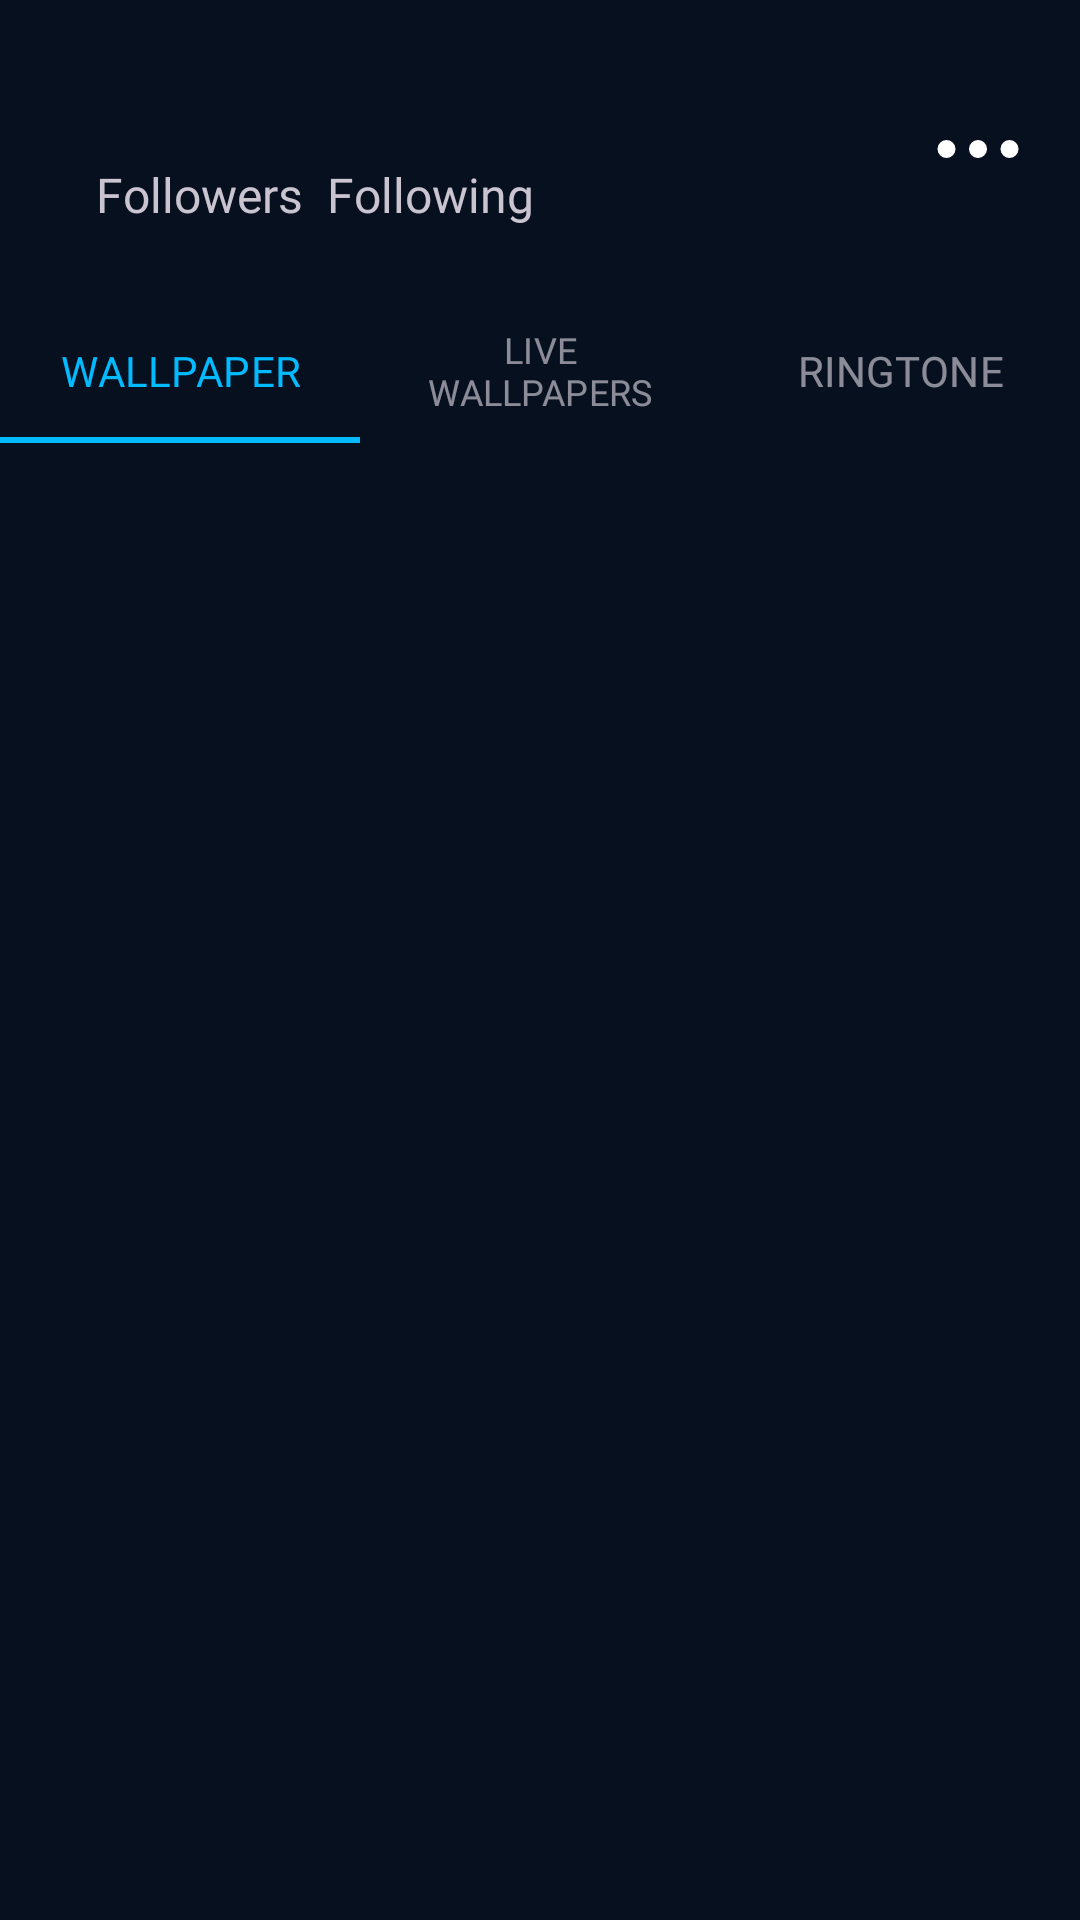

Icon click points for this 1080px×1920px phone screenshot, format [x,y]:
menu: [978,149]
